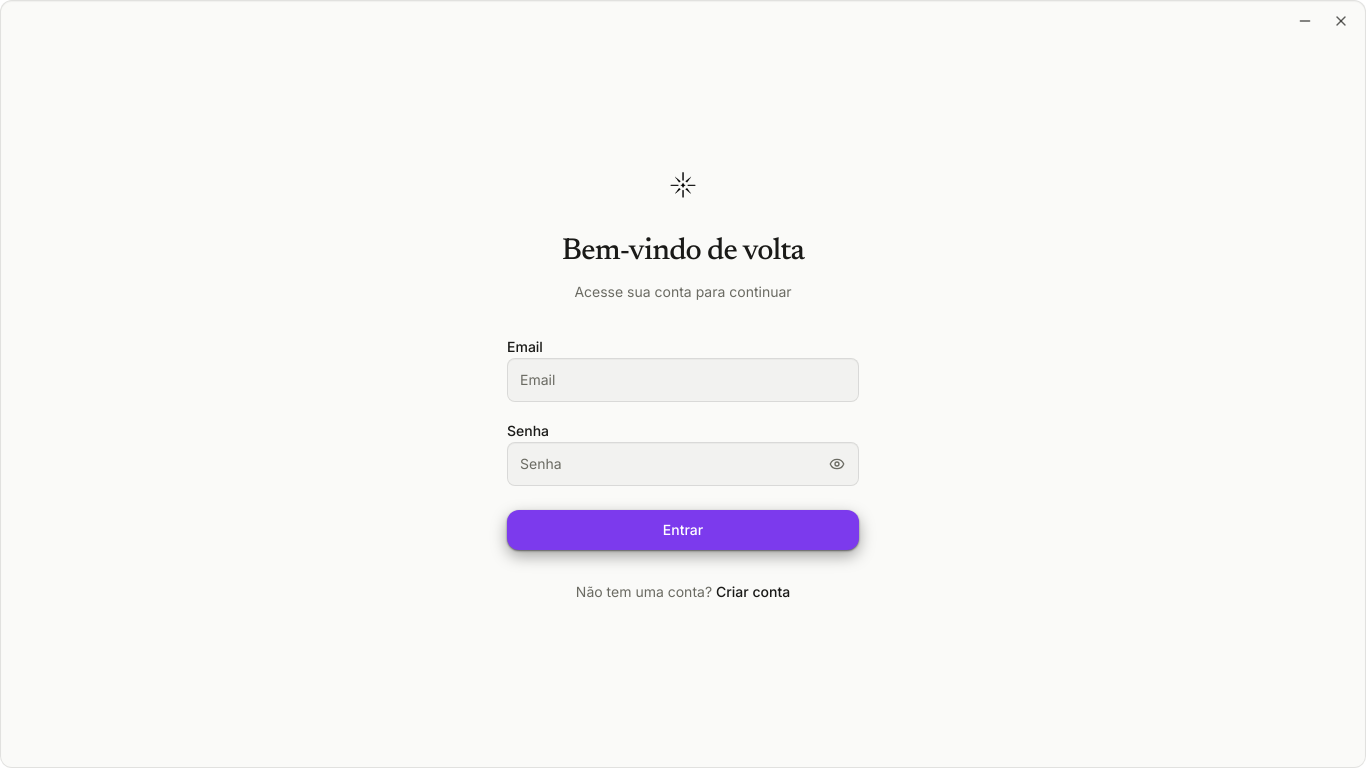
LoginView › blocks mismatched passwords
The image size is (1366, 768).
Click the button "Criar conta": (753, 592) [716, 582, 790, 602]
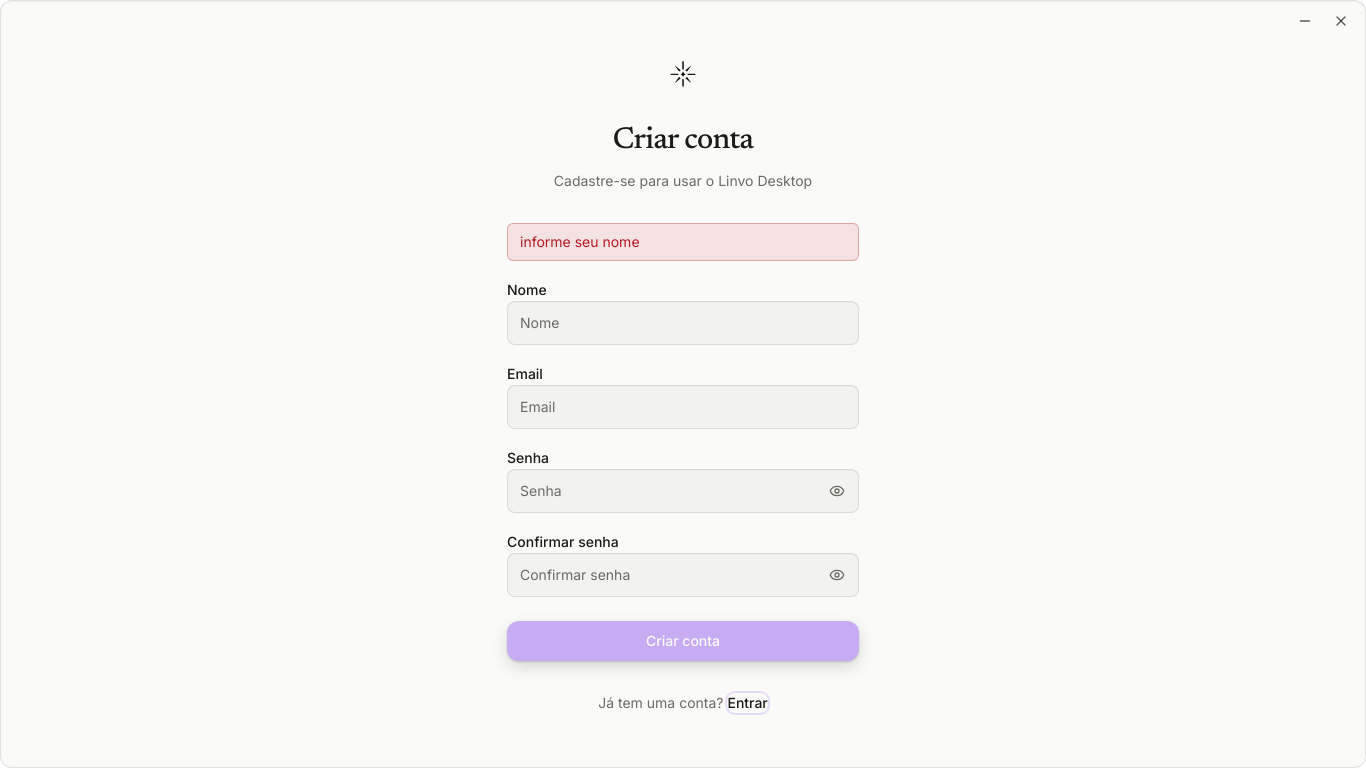
Expected: the button "Criar conta" is disabled, [507, 621, 859, 661]
